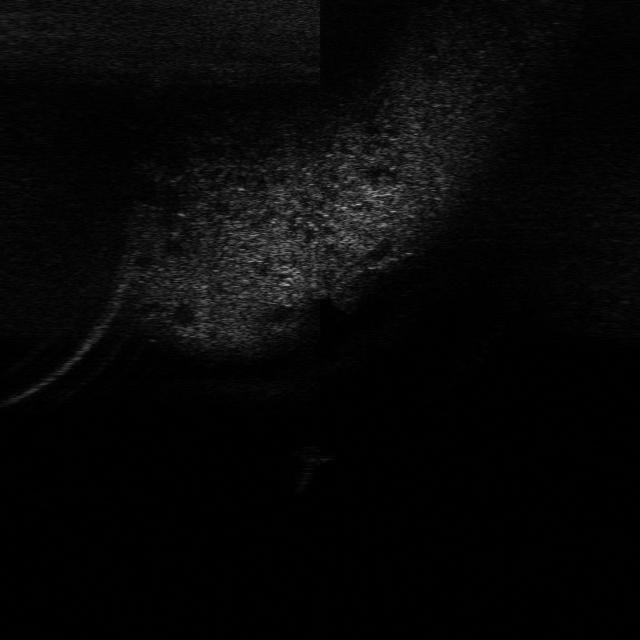cube: (288, 440, 344, 468)
